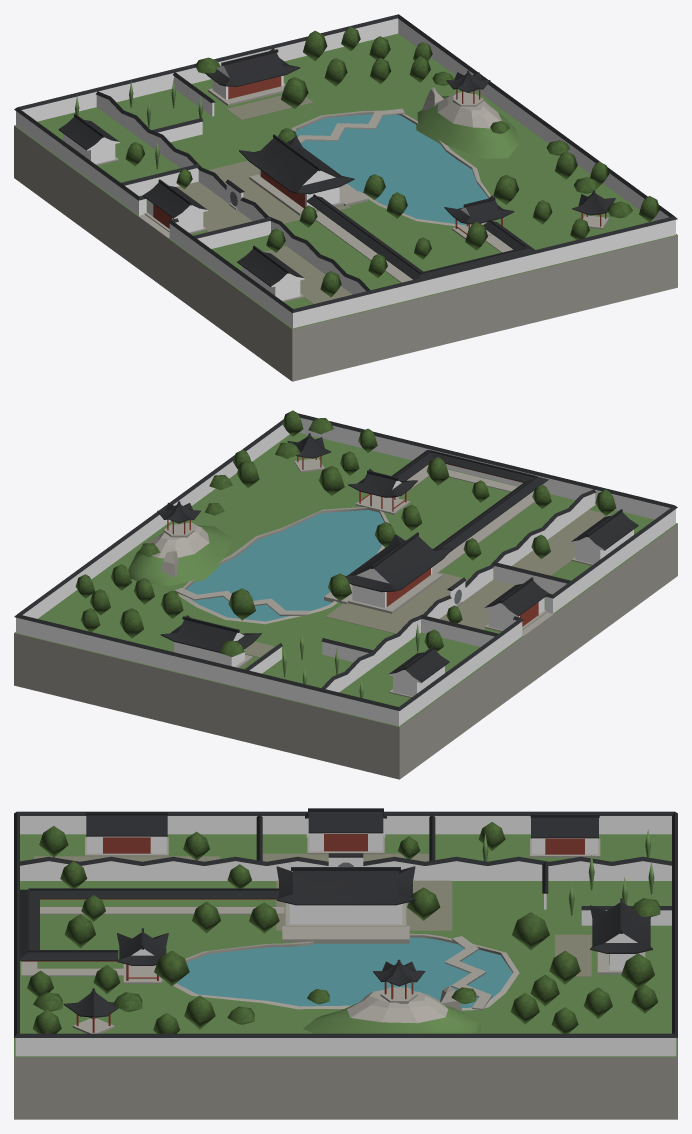
Rendered from far.fbx.
3 renders of one model, top to bottom at view 1: azimuth 30°, elevation 25°; view 2: azimuth 150°, elevation 25°; view 3: azimuth 270°, elevation 25°, orthographic. The views are drawn at different scales.
Visible parts, largest first — view 1: landmark-classical_garden/0/far; view 2: landmark-classical_garden/0/far; view 3: landmark-classical_garden/0/far.
Part boxes in pixels (box(x1,y1,x2,y2)): landmark-classical_garden/0/far: box(14, 14, 677, 381); landmark-classical_garden/0/far: box(14, 410, 677, 779); landmark-classical_garden/0/far: box(14, 808, 677, 1119).
Bounding box in the file's own units: 80 × 22 × 100.
